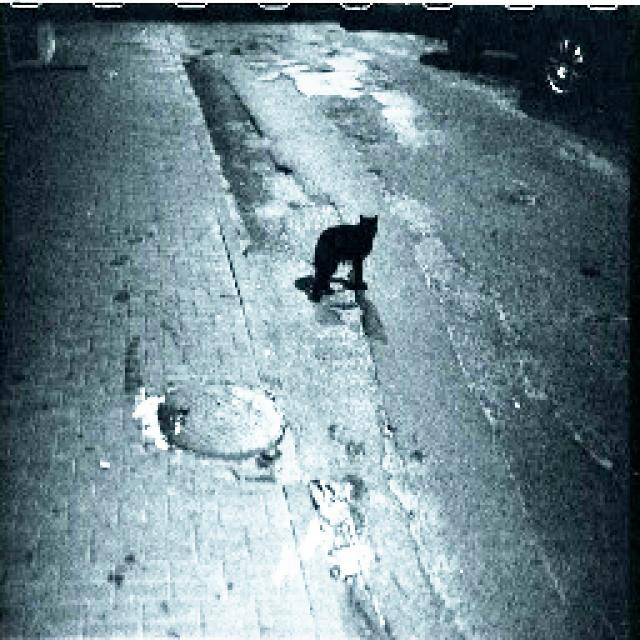cat: (309, 212, 382, 307)
